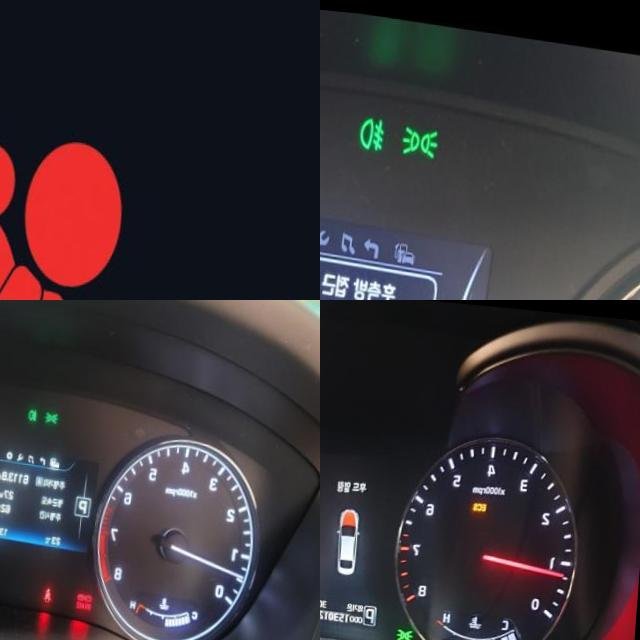FrontFogLight: (360, 107, 389, 145), (33, 401, 43, 415)
SideLamp: (403, 116, 442, 151), (402, 619, 420, 635), (50, 404, 64, 417)
